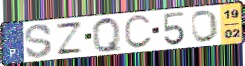5: (162, 10, 186, 47)
C: (123, 14, 154, 51)
O: (190, 9, 220, 44)
Q: (90, 15, 124, 54)
S: (23, 22, 54, 60)
Z: (54, 21, 85, 56)
